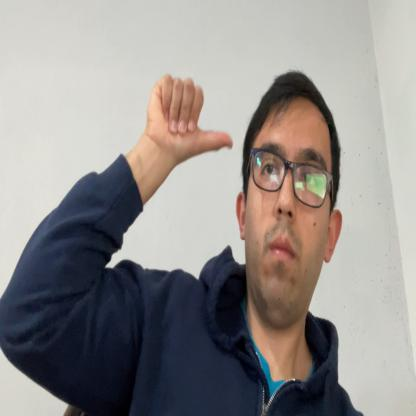A: (146, 72, 234, 164)
